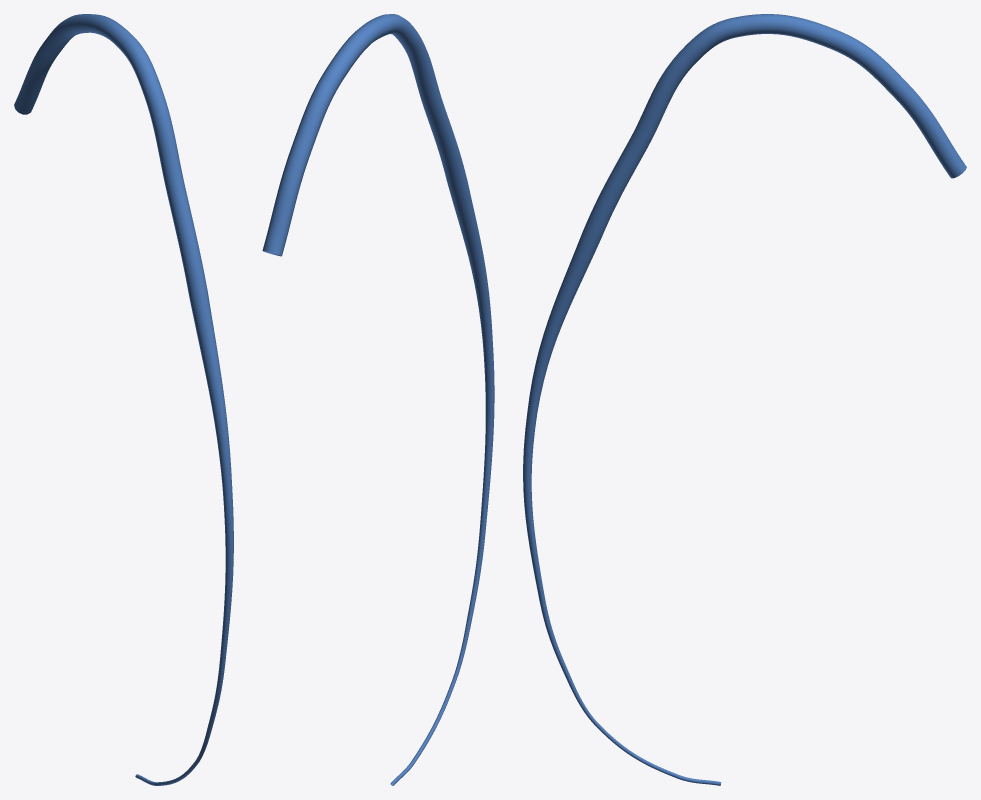
The picture shows the model from 3 angles, left to right: view 1: azimuth 30°, elevation 25°; view 2: azimuth 150°, elevation 25°; view 3: azimuth 270°, elevation 25°; orthographic projection. The views are drawn at different scales.
Parts seen in each view (by area): view 1: 下矢状窦; view 2: 下矢状窦; view 3: 下矢状窦.
Part boxes in pixels (<box>): 下矢状窦: <box>14,14,233,785</box>; 下矢状窦: <box>262,14,494,785</box>; 下矢状窦: <box>523,14,966,785</box>.
Bounding box in the file's own units: 0.00295 × 0.1247 × 0.0651.
